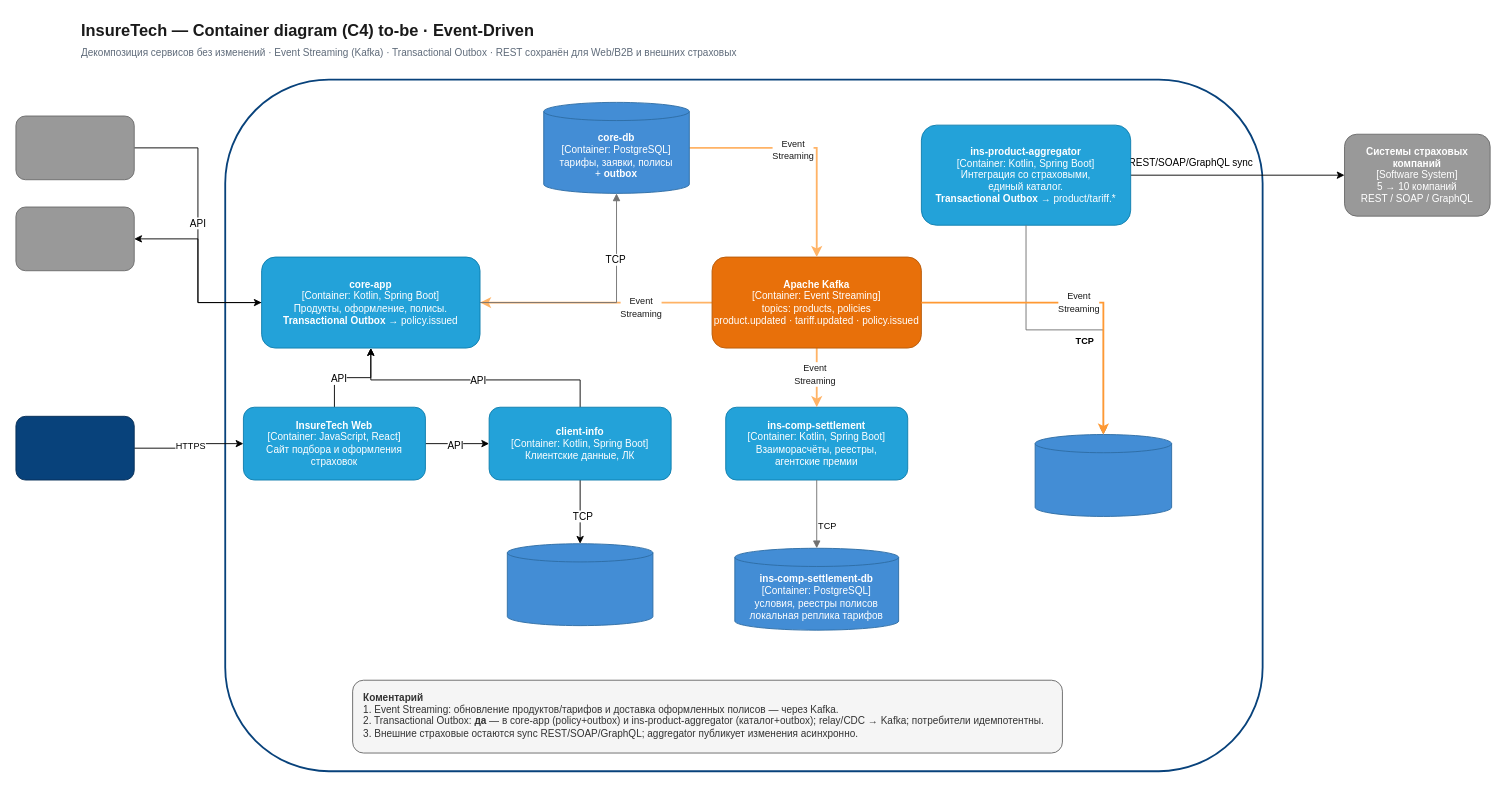
The diagram is 1506 pixels wide and 787 high, and some of its shapes have lost their labels. Each missing label, with the centre of its shape:
"aggregator store [Container: PostgreSQL] снимок каталога + outbox" belongs at pixel 1103 475.
"client-info-db [Container: PostgreSQL] данные клиентов" belongs at pixel 579 584.
"Платёжный сервис [Software System] Оплата полисов" belongs at pixel 74 238.
"Пользователь [Person] Частный клиент" belongs at pixel 74 447.
"Системы партнёров [Software System] B2B API-клиенты" belongs at pixel 74 147.
